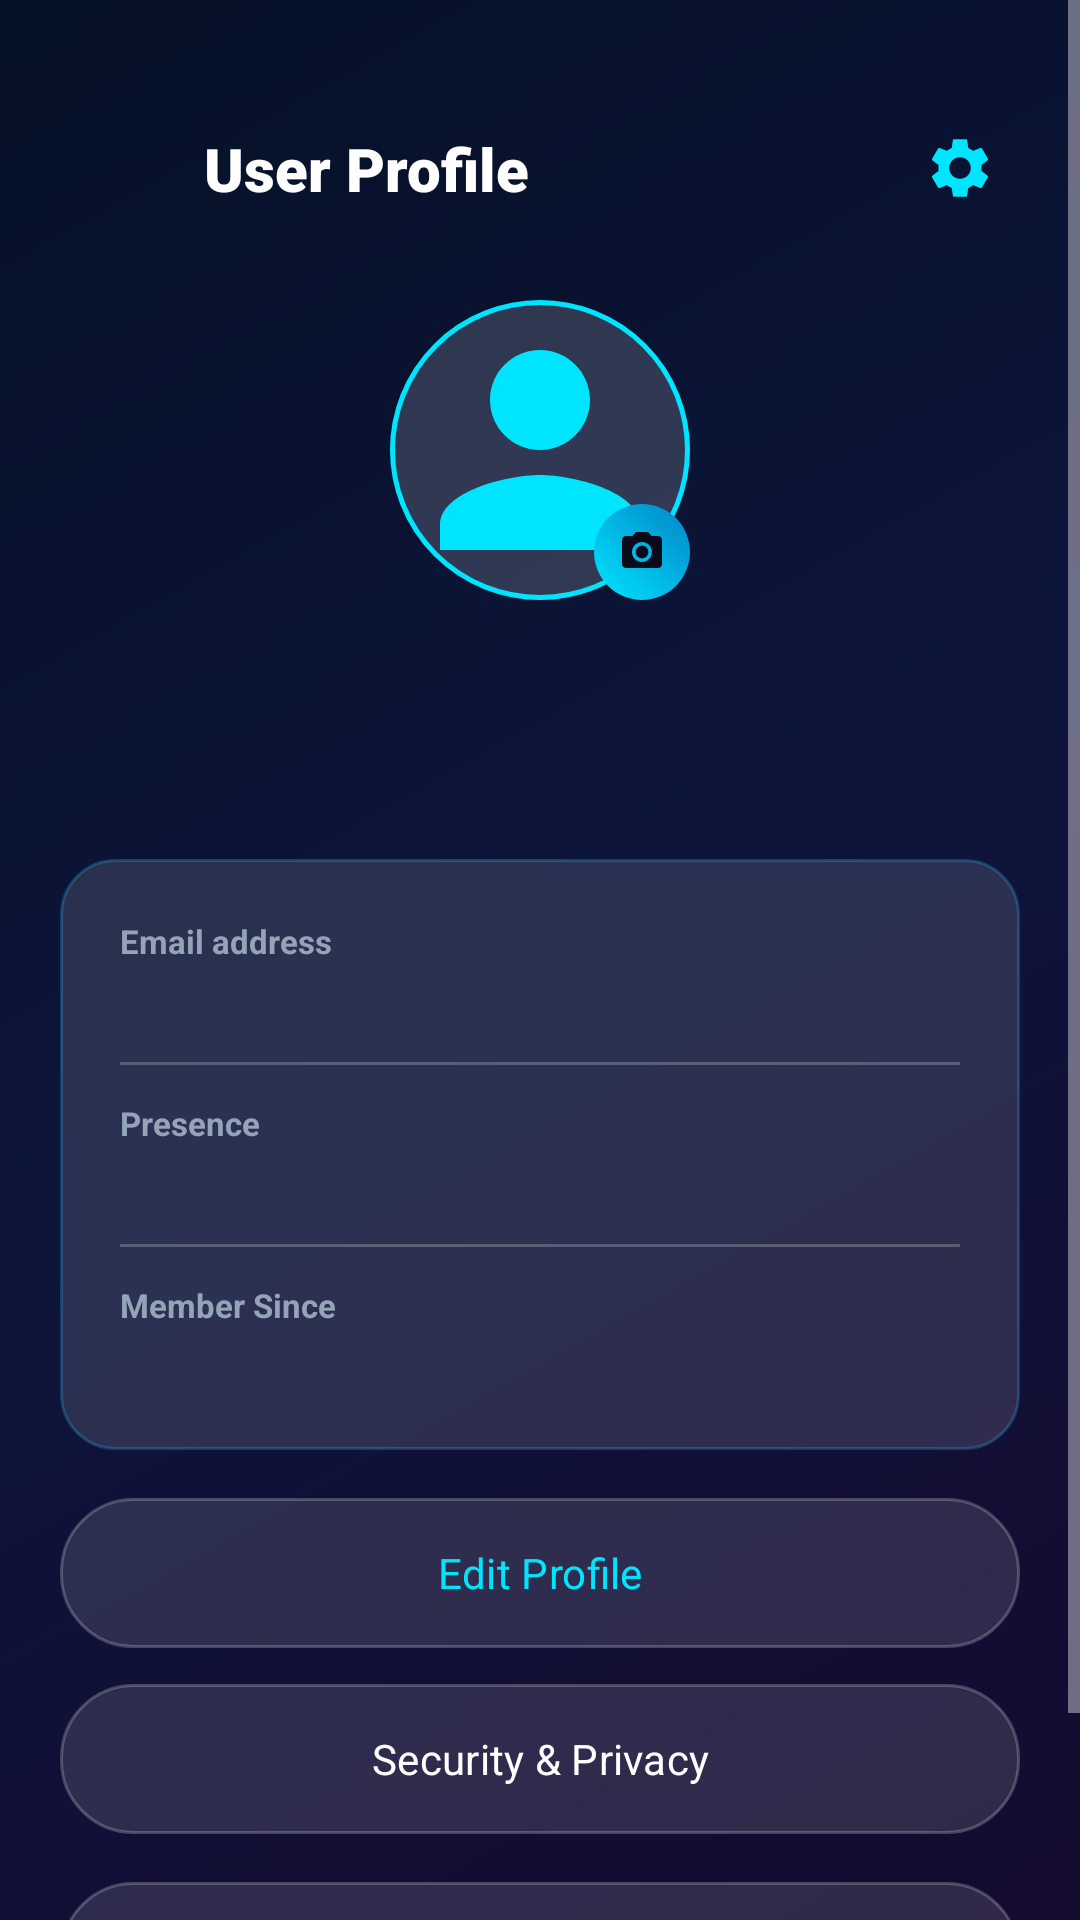

Named icons in this screenshot (1080*1920) and their bounding boxes, (x1, y1, x2, y2):
Settings: (932, 139, 988, 197)
